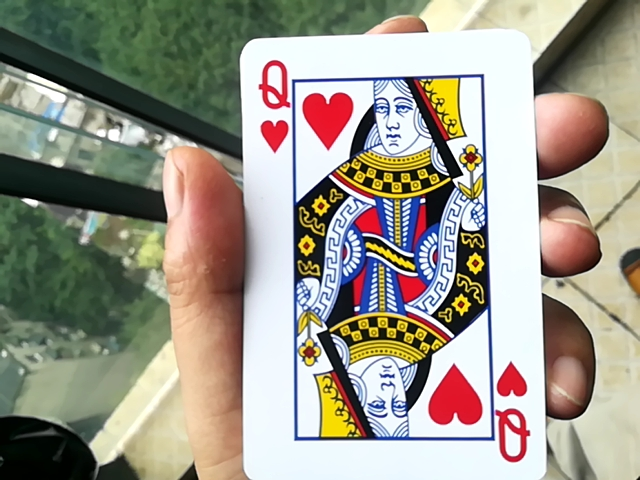hx q: (226, 33, 560, 480)
